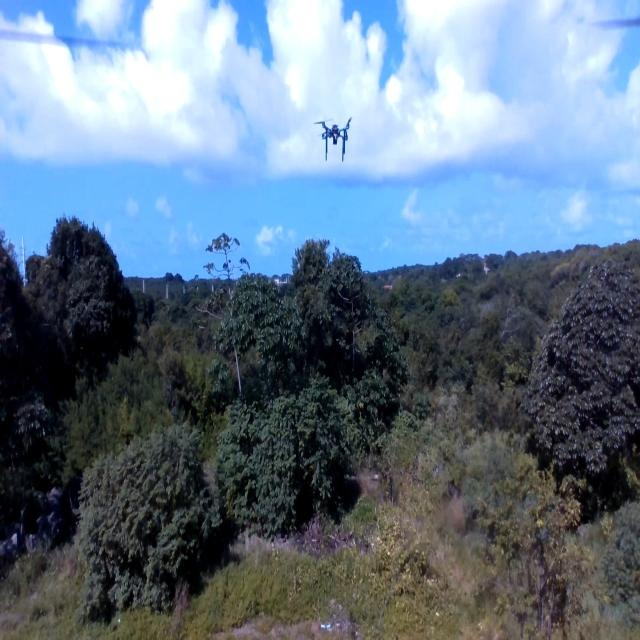-uav-: (306, 102, 362, 172)
